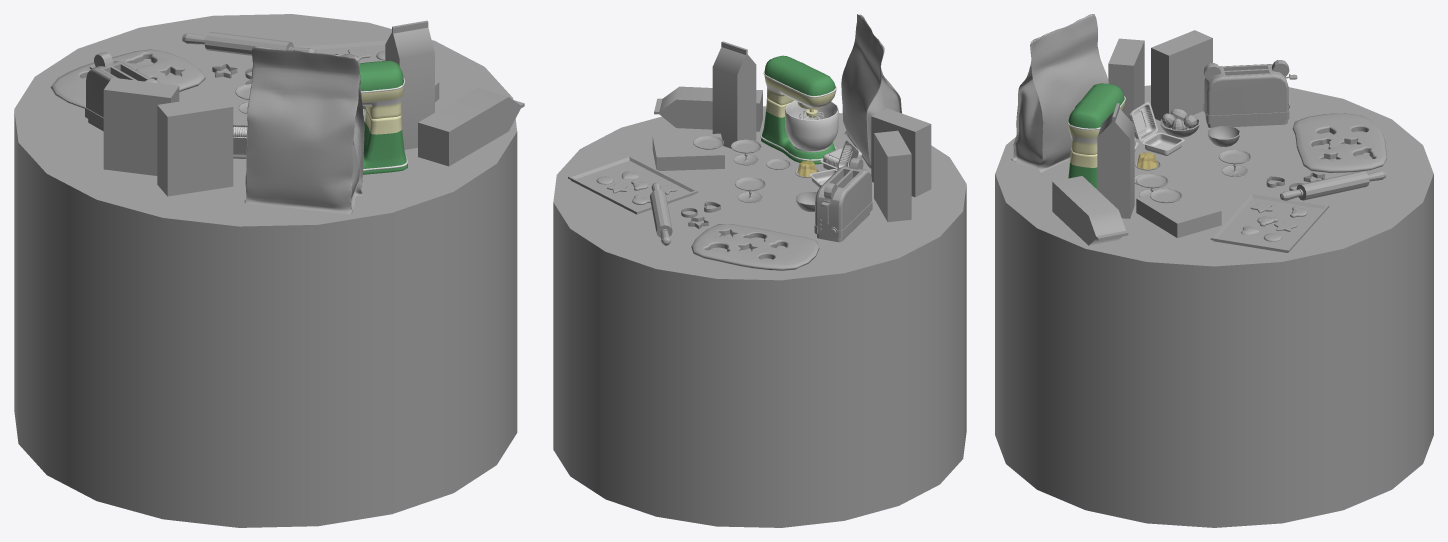
The model's file is play_stage_jjin.fbx.
3 views of the same model, side by side, from view 1: azimuth 30°, elevation 25°; view 2: azimuth 150°, elevation 25°; view 3: azimuth 270°, elevation 25° (orthographic). The views are drawn at different scales.
Parts seen in each view (by area): view 1: stage, flour, cereal_box1, cereal_box2, milk1, Cube, milk, dough, push_stick, polySurface120, cookie_tray, polySurface118; view 2: stage, flour, dough, Cube, milk, cookie_tray, cereal_box2, cereal_box1, milk1, book, Cylinder, polySurface118 (+5 smaller); view 3: stage, flour, dough, cereal_box2, polySurface121, cookie_tray, milk1, milk, Cube, book, cereal_box1, push_stick (+4 smaller).
Part boxes in pixels (box(x1,y1,x2,y2)): stage: box(14, 14, 517, 527); flour: box(244, 46, 364, 214); cereal_box1: box(157, 95, 233, 196); cereal_box2: box(103, 77, 179, 175); milk1: box(418, 87, 524, 166); Cube: box(359, 61, 407, 174); milk: box(385, 20, 434, 149); dough: box(50, 49, 205, 108); push_stick: box(182, 31, 316, 55); polySurface120: box(85, 68, 112, 127); cookie_tray: box(293, 39, 387, 63); polySurface118: box(94, 52, 157, 82); stage: box(553, 106, 966, 527); flour: box(841, 14, 901, 169); dough: box(691, 223, 819, 270); Cube: box(761, 55, 836, 164); milk: box(712, 41, 756, 148); cookie_tray: box(568, 155, 698, 214); cereal_box2: box(874, 130, 911, 221); cereal_box1: box(871, 108, 931, 197); milk1: box(654, 86, 762, 131); book: box(652, 133, 724, 170); Cylinder: box(785, 100, 838, 152); polySurface118: box(817, 158, 865, 237); stage: box(995, 85, 1433, 527); flour: box(1010, 14, 1109, 172); dough: box(1292, 113, 1387, 172); cereal_box2: box(1151, 30, 1212, 120); polySurface121: box(1206, 74, 1289, 124); cookie_tray: box(1210, 192, 1329, 252); milk1: box(1052, 176, 1128, 245); milk: box(1097, 103, 1134, 218); Cube: box(1068, 83, 1124, 189); book: box(1136, 185, 1221, 237); cereal_box1: box(1108, 38, 1144, 119); push_stick: box(1280, 170, 1386, 200).
Size of the model in its own units: 2191 by 2137 by 2191.
